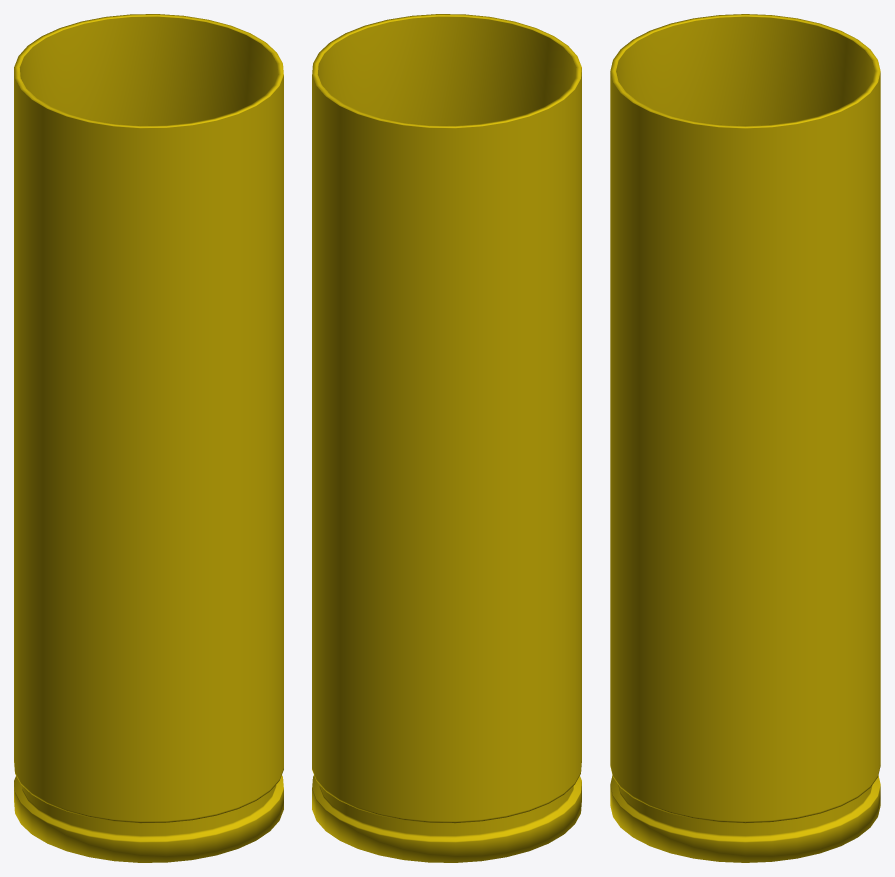
The model's file is Bullet Shell.fbx.
The picture shows the model from 3 angles, left to right: view 1: azimuth 30°, elevation 25°; view 2: azimuth 150°, elevation 25°; view 3: azimuth 270°, elevation 25°; orthographic projection.
Visible parts, largest first — view 1: Cylinder.002; view 2: Cylinder.002; view 3: Cylinder.002.
Boxes of the visible parts, x1=… form: Cylinder.002: x1=14, y1=14, x2=283, y2=862; Cylinder.002: x1=312, y1=14, x2=581, y2=862; Cylinder.002: x1=610, y1=14, x2=880, y2=862.
Bounding box in the file's own units: 200 × 600 × 200.
